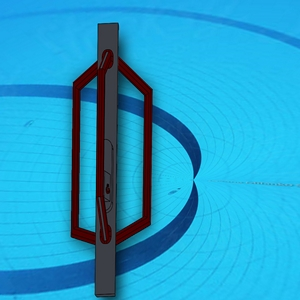submarine: (62, 22, 154, 297)
